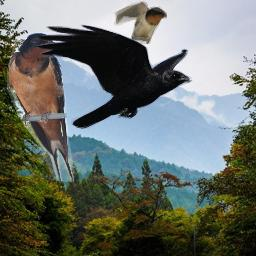Crow: (35, 23, 194, 129)
Swallow: (7, 32, 74, 182), (114, 1, 167, 44)
